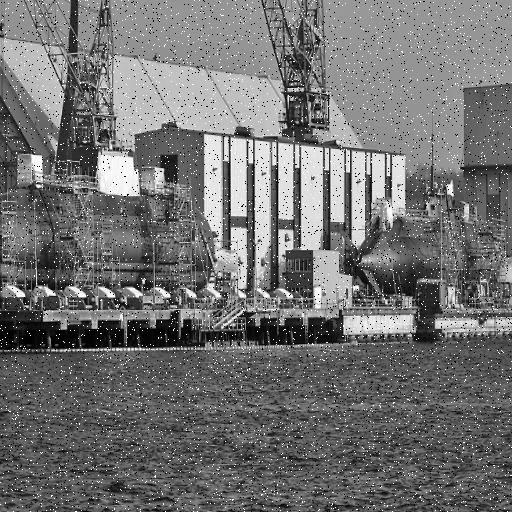submarine: (1, 181, 215, 286), (360, 185, 512, 297)
